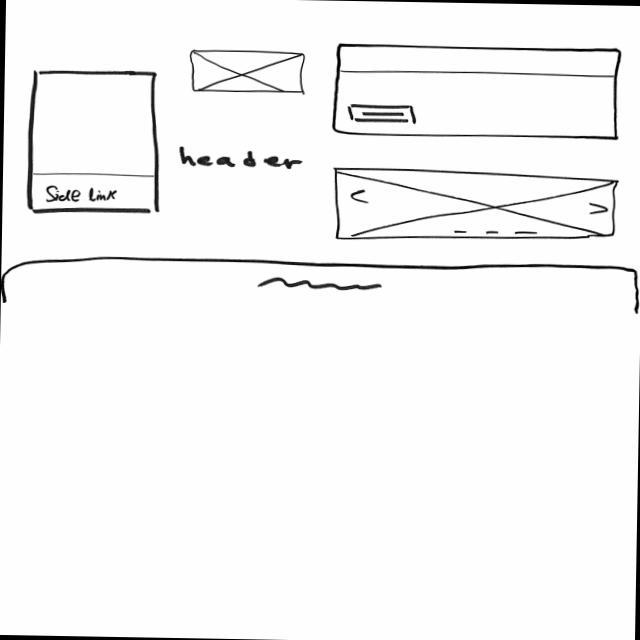container: (333, 43, 621, 142), (28, 69, 163, 214)
icon-button: (348, 103, 419, 127)
image: (333, 167, 619, 244), (188, 48, 307, 96)
label: (174, 147, 306, 171), (44, 184, 120, 204)
text: (260, 276, 384, 294)
